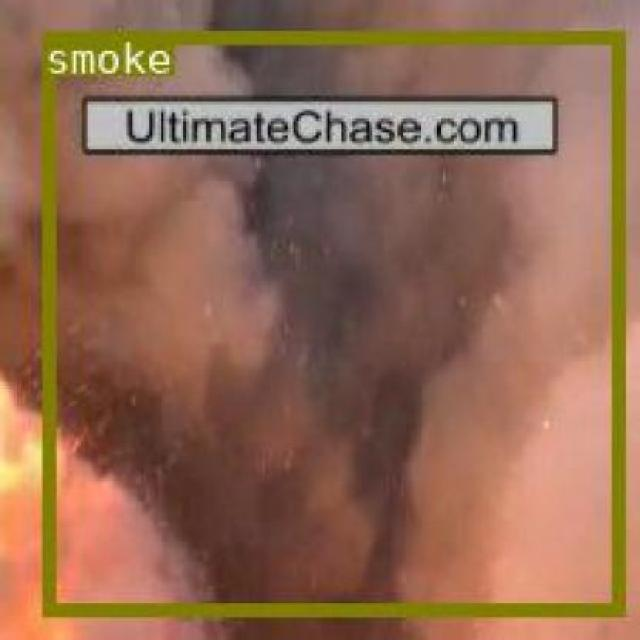Smoke: (41, 29, 622, 614)
